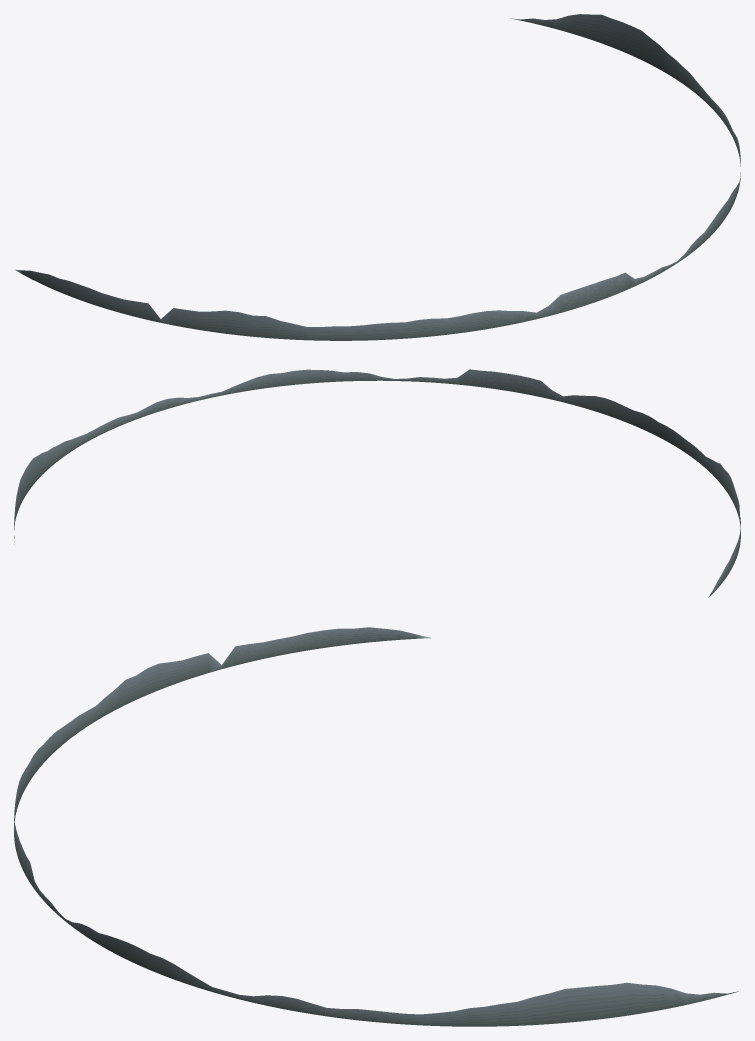
File: SM_Fondale_Tenda_LOD1.fbx
3 renders of one model, top to bottom at view 1: azimuth 30°, elevation 25°; view 2: azimuth 150°, elevation 25°; view 3: azimuth 270°, elevation 25°, orthographic. The views are drawn at different scales.
Parts seen in each view (by area): view 1: SM_Fondale_Tenda_LOD1; view 2: SM_Fondale_Tenda_LOD1; view 3: SM_Fondale_Tenda_LOD1.
Boxes of the visible parts, x1,y1,x2,y2 form: SM_Fondale_Tenda_LOD1: [15, 14, 740, 340]; SM_Fondale_Tenda_LOD1: [14, 369, 740, 597]; SM_Fondale_Tenda_LOD1: [14, 627, 738, 1026].
Size of the model in its own units: 2594345 by 2051118 by 105809.
1 material, 1 textured.
